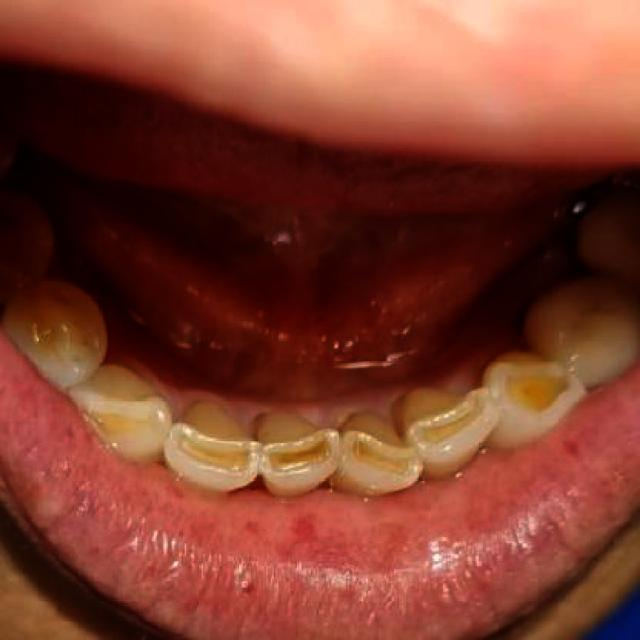Plaque: (148, 375, 399, 431)
